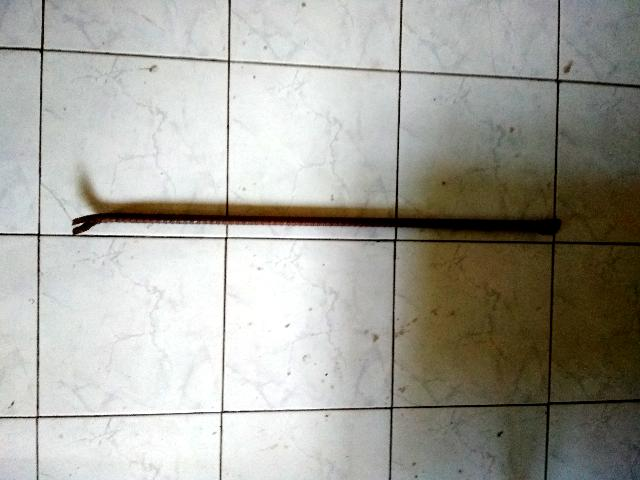crow bar: (63, 211, 571, 242)
